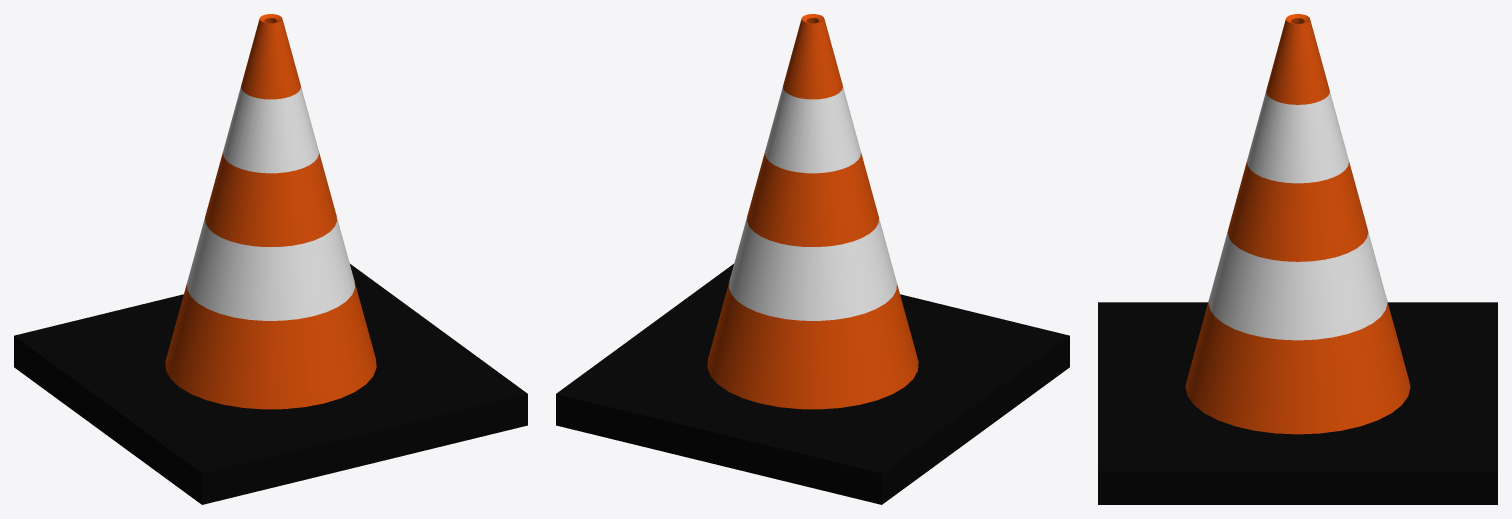
Rendered from traffic cone small.fbx.
3 renders of one model, left to right at view 1: azimuth 30°, elevation 25°; view 2: azimuth 150°, elevation 25°; view 3: azimuth 270°, elevation 25°, orthographic. The views are drawn at different scales.
Parts seen in each view (by area): view 1: Cone.001; view 2: Cone.001; view 3: Cone.001.
Boxes of the visible parts, x1=… form: Cone.001: x1=14, y1=14, x2=527, y2=504; Cone.001: x1=556, y1=14, x2=1069, y2=504; Cone.001: x1=1098, y1=14, x2=1497, y2=504.
Size of the model in its own units: 42.07 by 42.07 by 46.58.
